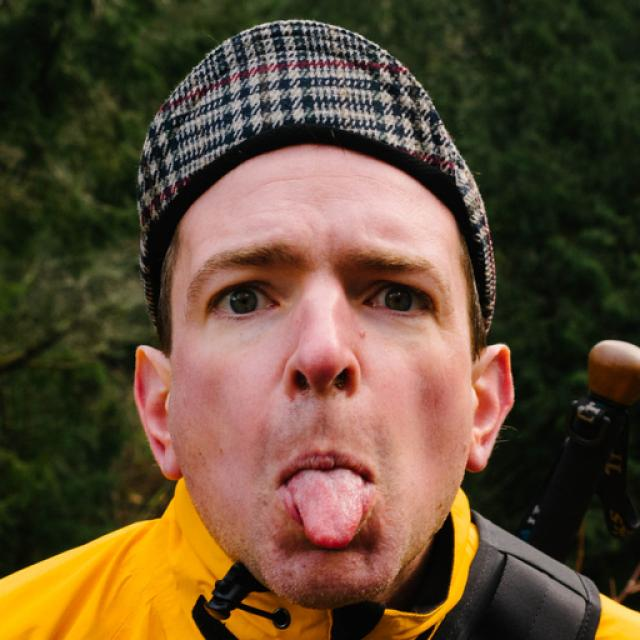Acne: (351, 321, 373, 346)
Wrinkle: (246, 168, 369, 199)
